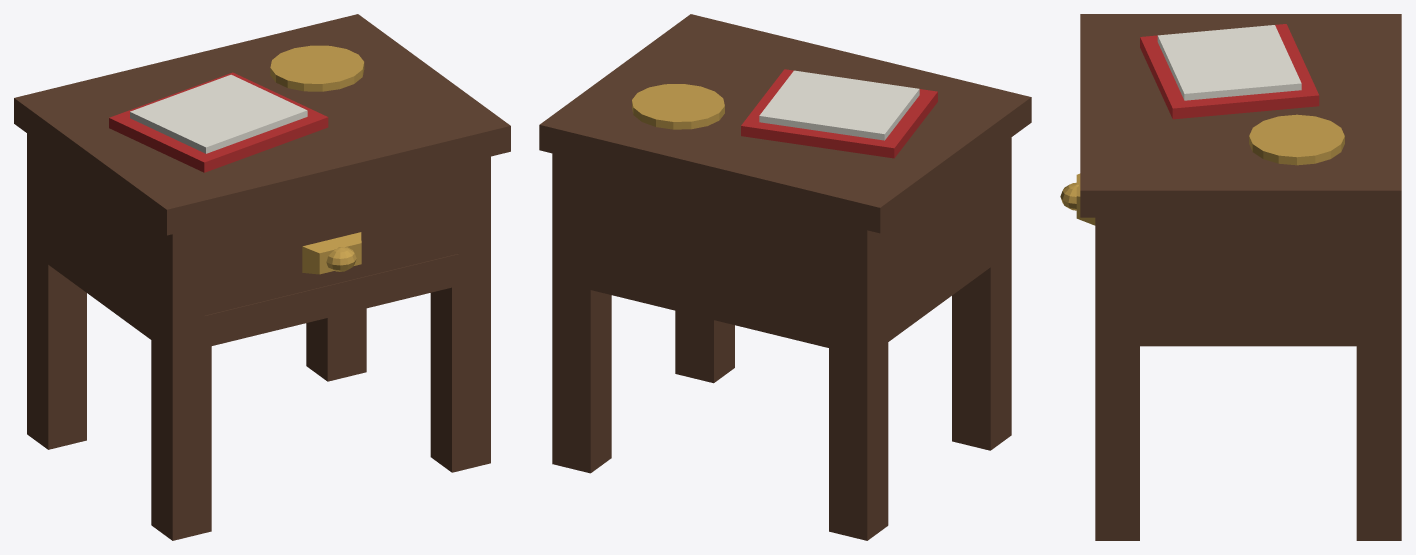
Rendered from cabinetBedDrawerTable.glb.
The picture shows the model from 3 angles, left to right: view 1: azimuth 30°, elevation 25°; view 2: azimuth 150°, elevation 25°; view 3: azimuth 270°, elevation 25°; orthographic projection. The views are drawn at different scales.
Visible parts, largest first — view 1: cabinetBedDrawerTable(Clone), drawer; view 2: cabinetBedDrawerTable(Clone); view 3: cabinetBedDrawerTable(Clone), drawer.
Boxes of the visible parts, x1,y1,x2,y2 form: cabinetBedDrawerTable(Clone): [14, 14, 510, 540]; drawer: [204, 189, 458, 315]; cabinetBedDrawerTable(Clone): [539, 14, 1031, 540]; cabinetBedDrawerTable(Clone): [1080, 14, 1401, 540]; drawer: [1060, 173, 1095, 225].
Bounding box in the file's own units: 0.266 × 0.2632 × 0.2173.
